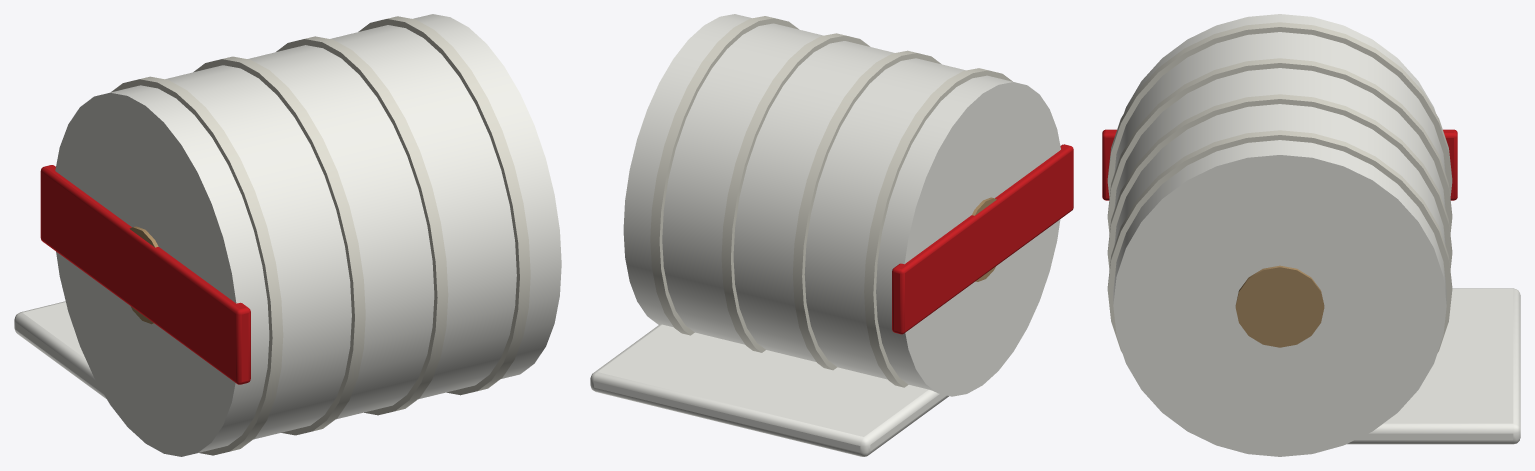
File: venda.glb
3 views of the same model, side by side, from view 1: azimuth 30°, elevation 25°; view 2: azimuth 150°, elevation 25°; view 3: azimuth 270°, elevation 25° (orthographic). The views are drawn at different scales.
Visible parts, largest first — view 1: Cylinder; view 2: Cylinder; view 3: Cylinder.
Boxes of the visible parts, x1,y1,x2,y2 form: Cylinder: (14, 14, 561, 456); Cylinder: (590, 14, 1073, 456); Cylinder: (1102, 14, 1520, 456).
Bounding box in the file's own units: 0.093 × 0.093 × 0.113.
